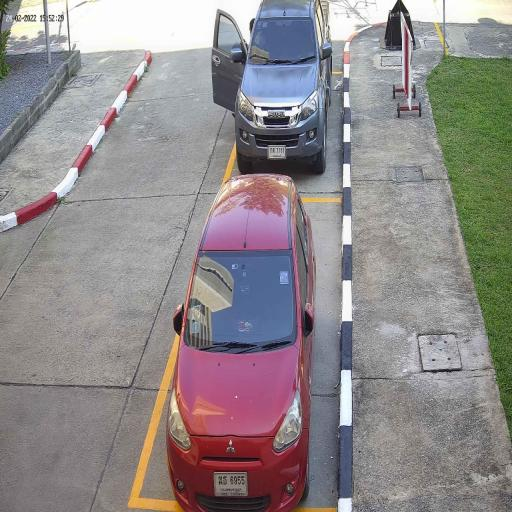car: (167, 173, 315, 512), (236, 0, 332, 170)
